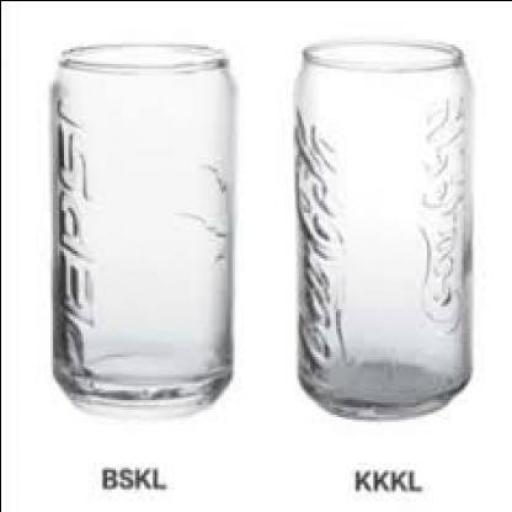glass: (290, 39, 472, 415), (45, 43, 229, 409)
